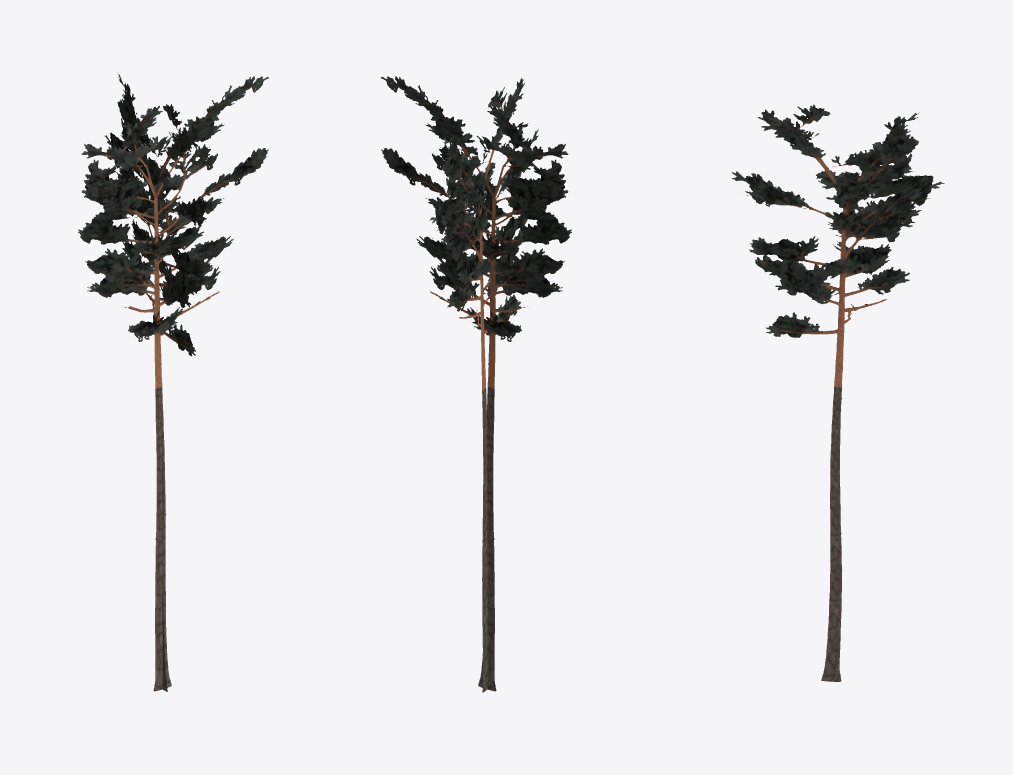
The model's file is pine_a_LOD2_billboard.fbx.
3 views of the same model, side by side, from view 1: azimuth 30°, elevation 25°; view 2: azimuth 150°, elevation 25°; view 3: azimuth 270°, elevation 25° (orthographic). The views are drawn at different scales.
Visible parts, largest first — view 1: Pine_A_LOD2_Billboard; view 2: Pine_A_LOD2_Billboard; view 3: Pine_A_LOD2_Billboard.
Boxes of the visible parts, <box> form: Pine_A_LOD2_Billboard: <box>78,73,268,691</box>; Pine_A_LOD2_Billboard: <box>381,76,571,692</box>; Pine_A_LOD2_Billboard: <box>732,104,944,681</box>.
Bounding box in the file's own units: 10.81 × 21.62 × 10.81.
1 material, 1 textured.
